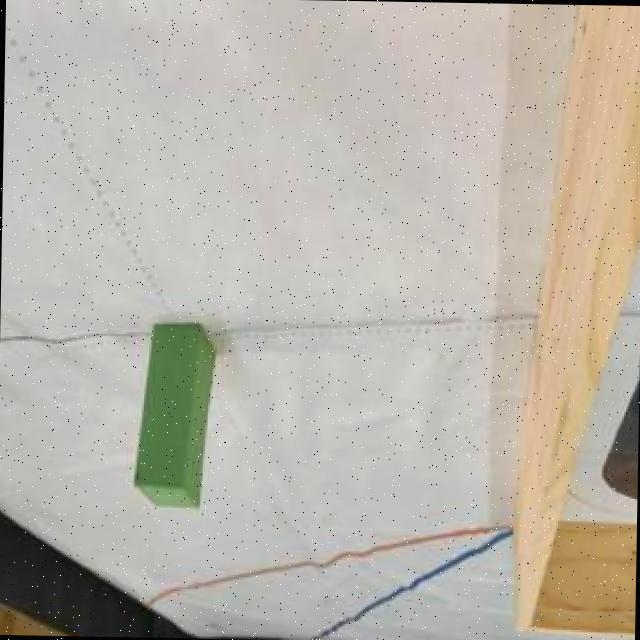greenbox: (134, 323, 215, 506)
